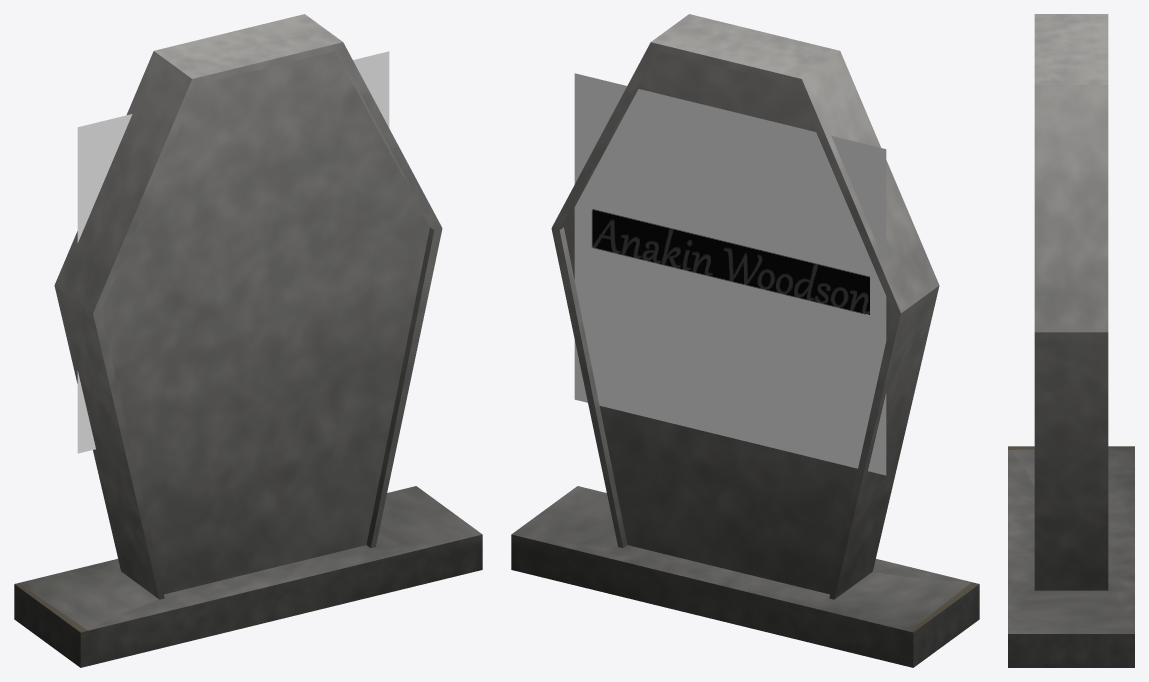
File: tombston_model_05.fbx
The picture shows the model from 3 angles, left to right: view 1: azimuth 30°, elevation 25°; view 2: azimuth 150°, elevation 25°; view 3: azimuth 270°, elevation 25°; orthographic projection. The views are drawn at different scales.
Parts seen in each view (by area): view 1: Cube.004, Plano.004; view 2: Cube.004, Plano.004; view 3: Cube.004.
Boxes of the visible parts, left/top/right/bottom form: Cube.004: left=14, top=14, right=482, bottom=667; Plano.004: left=77, top=51, right=389, bottom=453; Cube.004: left=511, top=14, right=979, bottom=667; Plano.004: left=574, top=73, right=886, bottom=475; Cube.004: left=1008, top=14, right=1134, bottom=667.
Size of the model in its own units: 0.7 by 0.9121 by 0.2.
